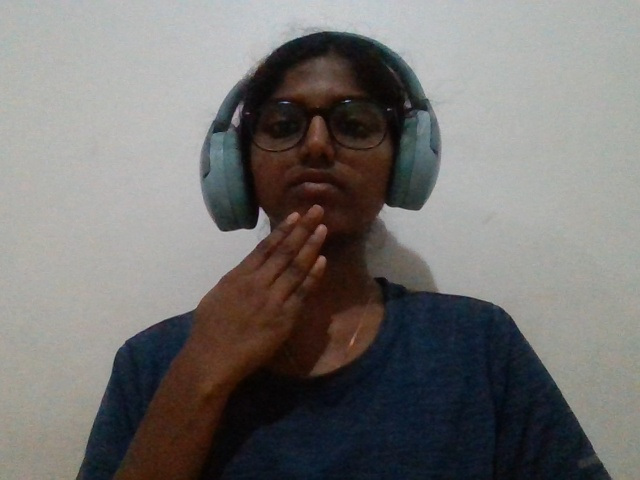Thanks: (115, 156, 372, 445)
